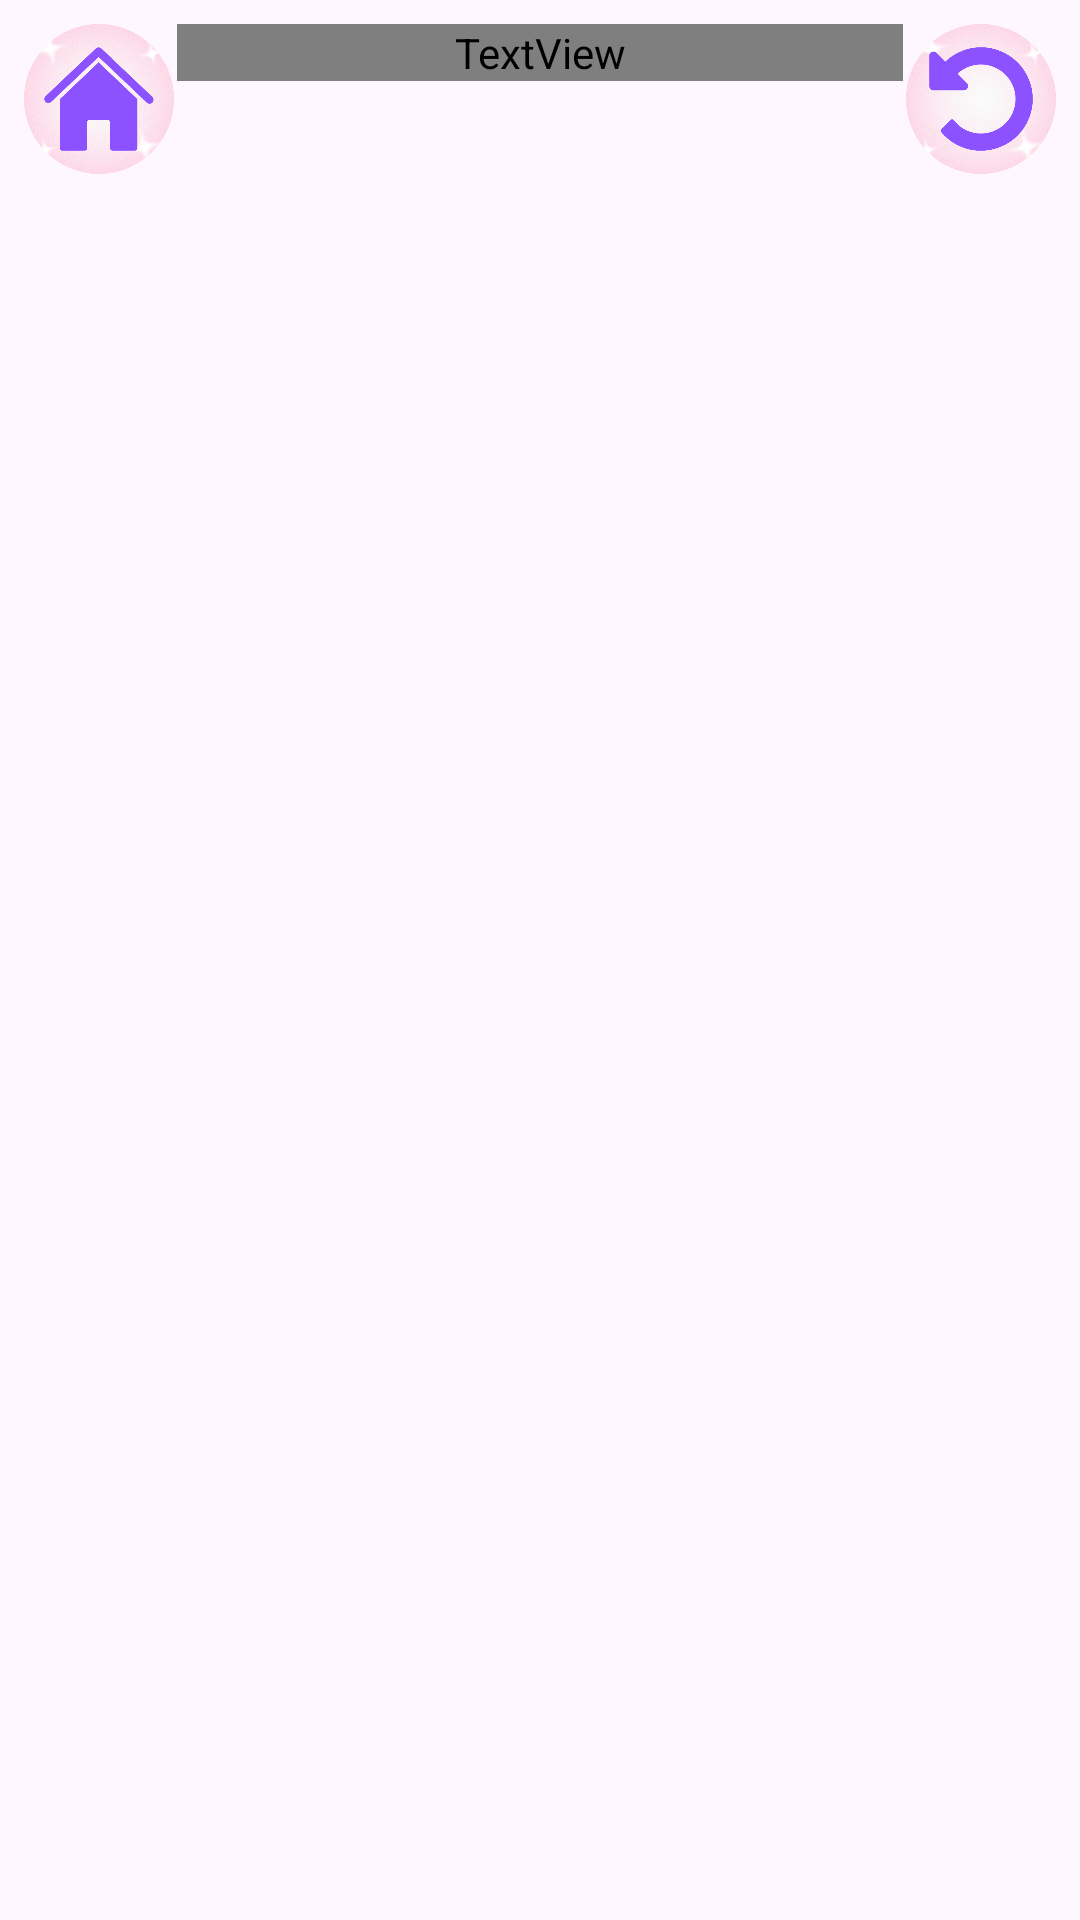

Icon bounding boxes for this 1080 × 1920 phone screenshot, format (x1, y1, x2, y2):
home: (24, 24, 174, 174)
reset: (906, 24, 1056, 174)
